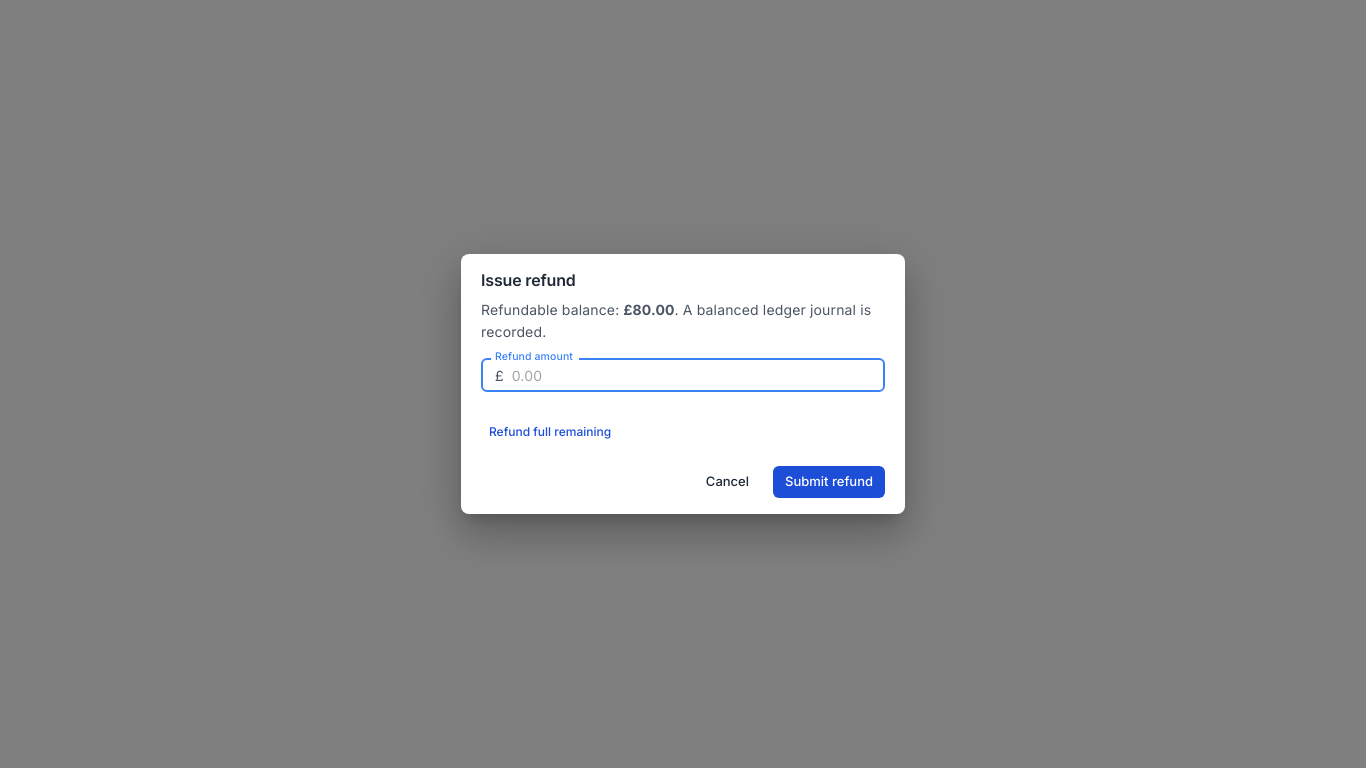
Test: Refund dialog › shows the refundable balance and refuses an amount above it
Expected: the text "£80.00" is shown, [623,301,674,318]
Type "80.01" into the field labelled "Refund amount". click: (698, 375)
box: [512,358,885,392]
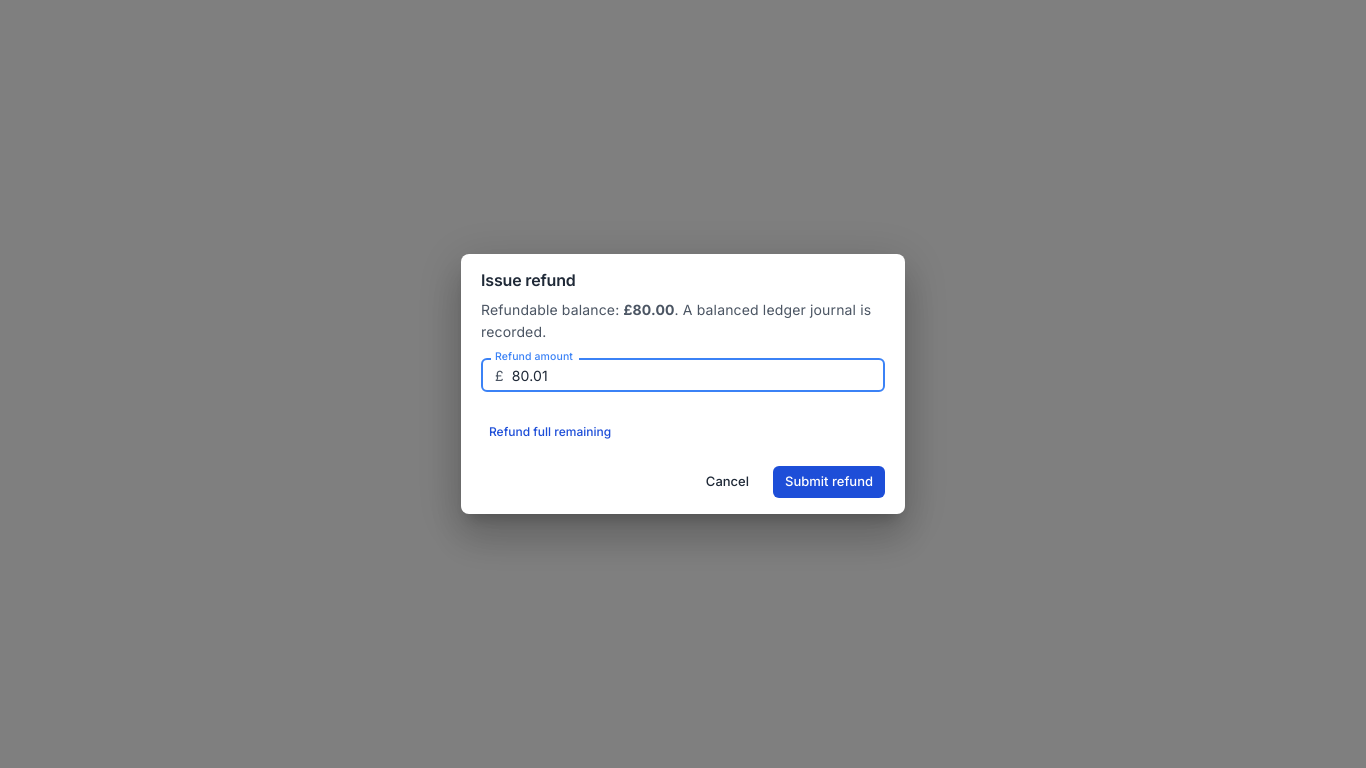
Click the button "Submit refund". click: click(829, 482)
box: [773,466,885,498]
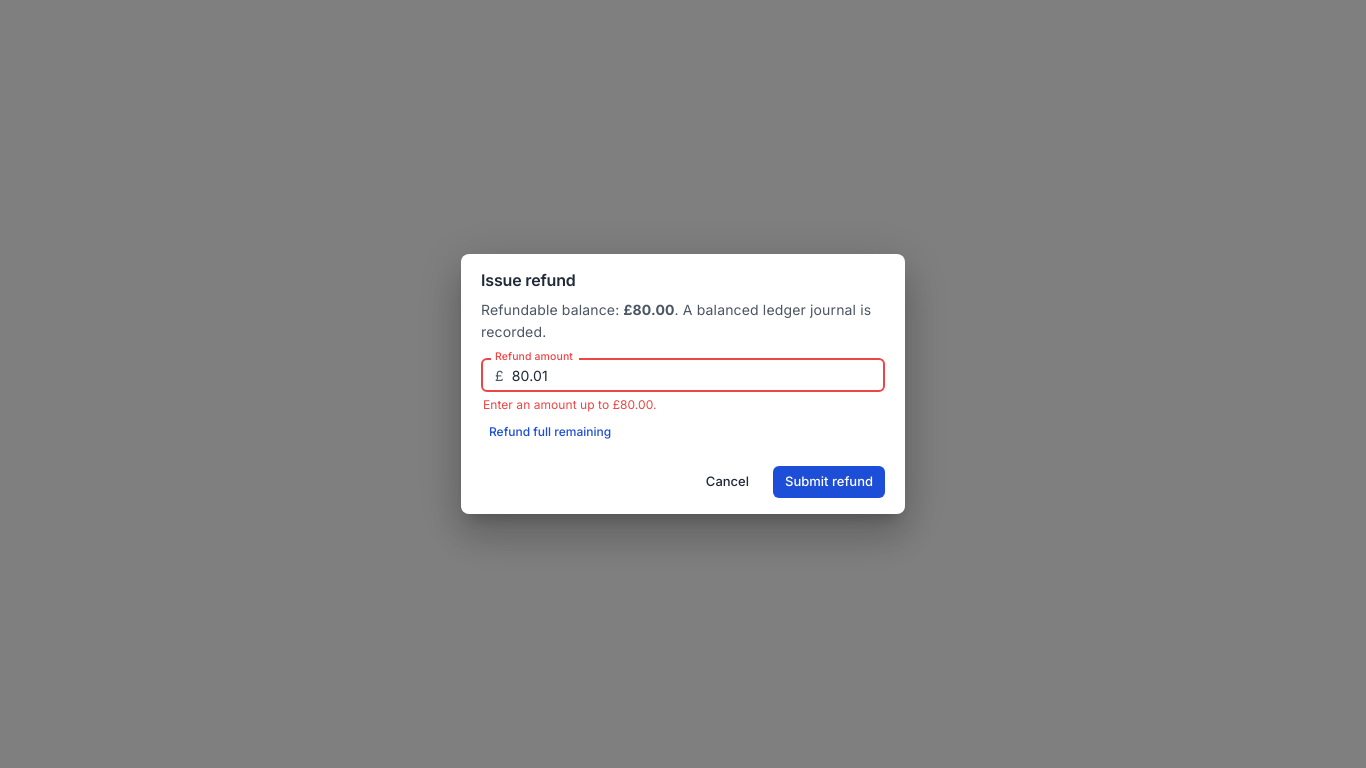
Expected: the text "Enter an amount up to £80.00." is shown, [483,398,656,412]
